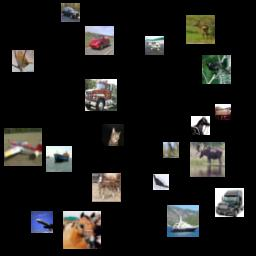airplane: (4, 128, 42, 166), (31, 211, 53, 233), (145, 36, 164, 55), (153, 174, 169, 190)
automobile: (85, 26, 114, 55), (61, 3, 80, 22)
bird: (202, 55, 231, 84), (12, 50, 34, 72), (163, 142, 179, 158)
cat: (102, 124, 124, 146)
deer: (190, 142, 225, 177), (186, 15, 215, 44)
ship: (167, 205, 199, 237), (46, 146, 72, 172)
truck: (85, 79, 117, 111), (215, 188, 244, 217), (215, 104, 231, 120)
